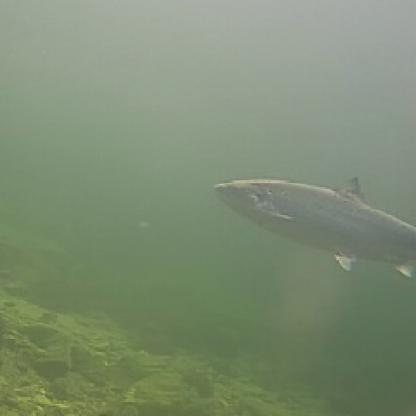salmon: (205, 168, 414, 281)
